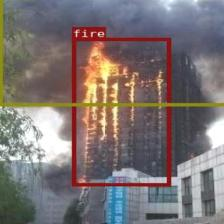fire: (71, 38, 170, 186)
smoke: (0, 0, 224, 105)
